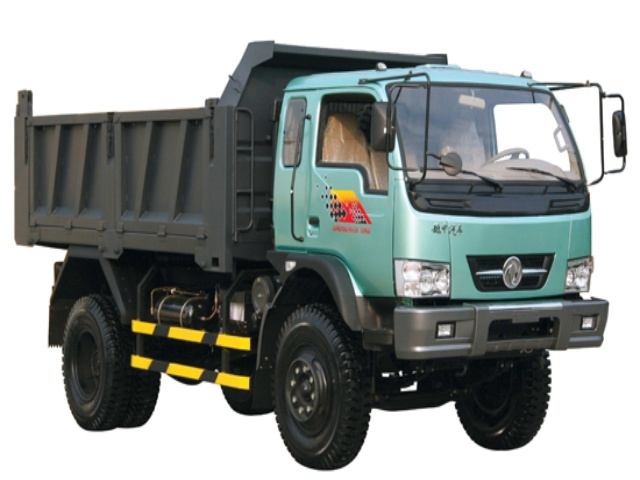Xe_tai_ben: (10, 32, 631, 474)
